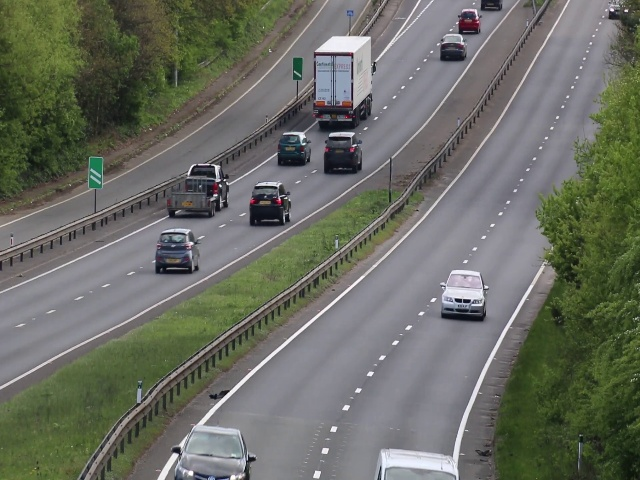car: (312, 29, 379, 131), (170, 422, 254, 480), (165, 162, 230, 217), (441, 264, 489, 324), (150, 227, 201, 273), (248, 177, 292, 227), (320, 128, 363, 173), (275, 128, 312, 167), (439, 29, 466, 61), (458, 7, 483, 36)
